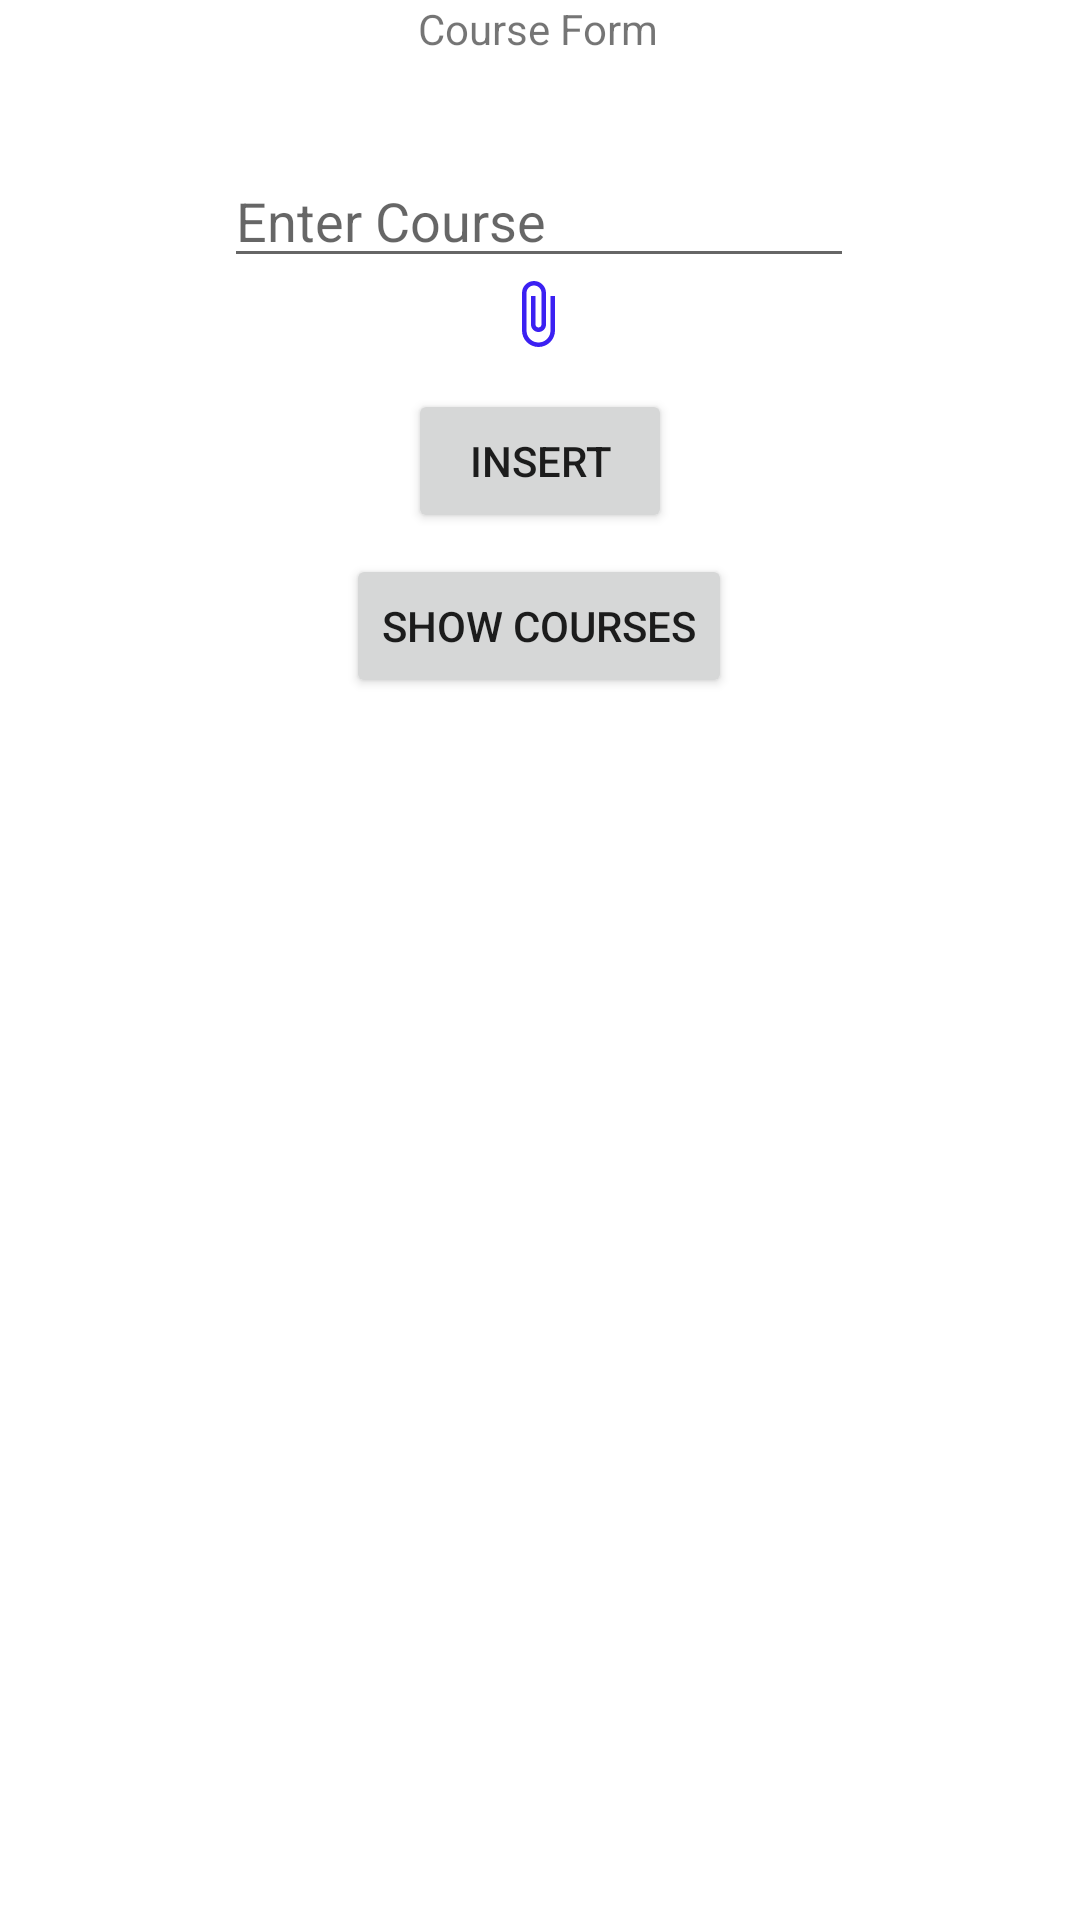

Screen size 1080 × 1920. Icon name, then its box in pixels as (x1, y1, x2, y2):
attach file: (522, 281, 555, 347)
